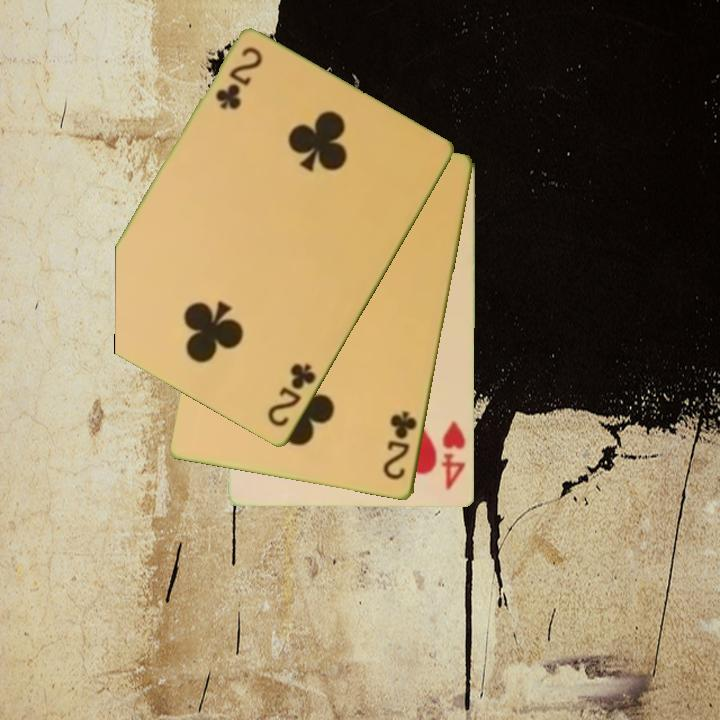2c: (264, 360, 319, 431), (212, 43, 266, 113), (380, 407, 421, 484)
4h: (438, 417, 469, 493)
